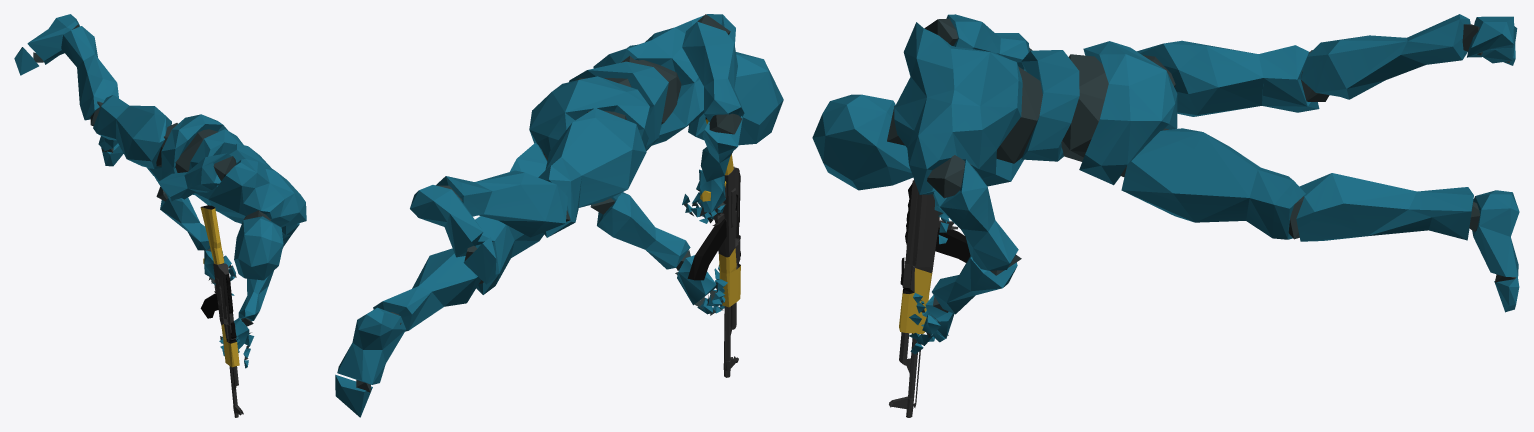
The model's file is EnemyDying_000009.obj.
The picture shows the model from 3 angles, left to right: view 1: azimuth 30°, elevation 25°; view 2: azimuth 150°, elevation 25°; view 3: azimuth 270°, elevation 25°; orthographic projection. The views are drawn at different scales.
Parts seen in each view (by area): view 1: Alpha_Surface, AK-47_Cube, Alpha_Joints; view 2: Alpha_Surface, AK-47_Cube, Alpha_Joints; view 3: Alpha_Surface, Alpha_Joints, AK-47_Cube.
Boxes of the visible parts, box(x1,y1,x2,y2) form: Alpha_Surface: box(14, 14, 306, 368); AK-47_Cube: box(200, 205, 243, 417); Alpha_Joints: box(33, 24, 270, 360); Alpha_Surface: box(335, 14, 783, 417); AK-47_Cube: box(687, 117, 740, 377); Alpha_Joints: box(356, 14, 741, 392); Alpha_Surface: box(812, 14, 1519, 354); Alpha_Joints: box(887, 18, 1515, 344); AK-47_Cube: box(889, 180, 970, 417).
Size of the model in its own units: 107 by 213 by 332.
